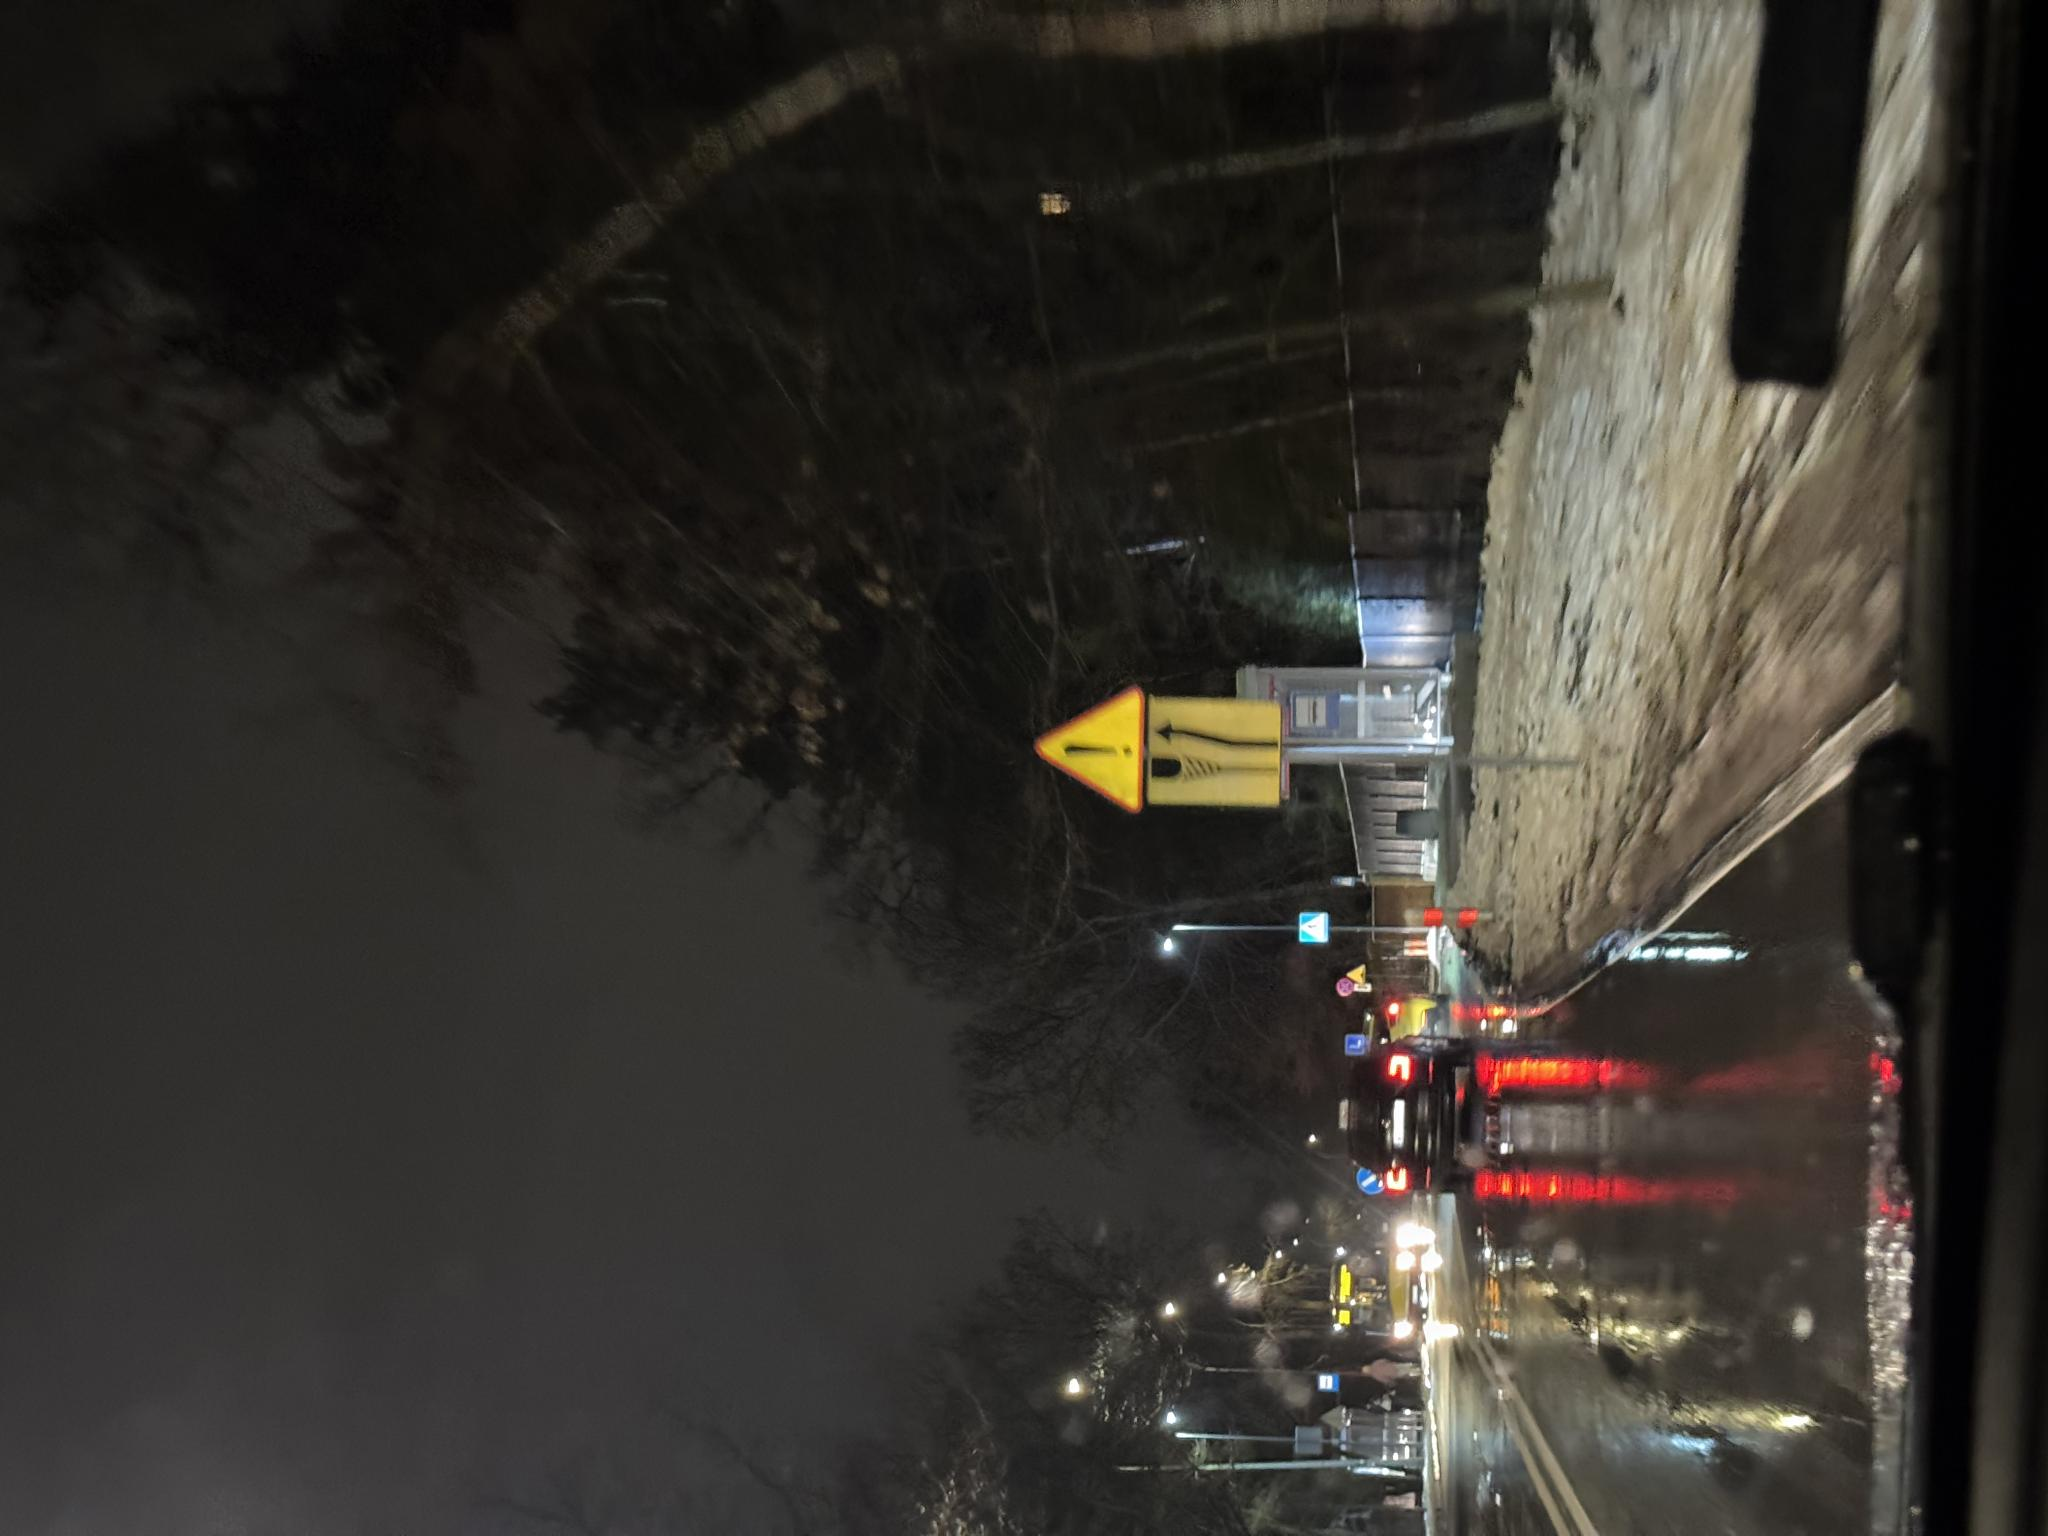information: (592, 1297, 624, 1328), (145, 1318, 163, 1339)
mandatory: (343, 1355, 369, 1384)
other: (729, 1144, 837, 1283), (545, 1354, 553, 1370)
prohibitory: (540, 1338, 558, 1354)
warning: (722, 1033, 851, 1144), (552, 1346, 572, 1365)
